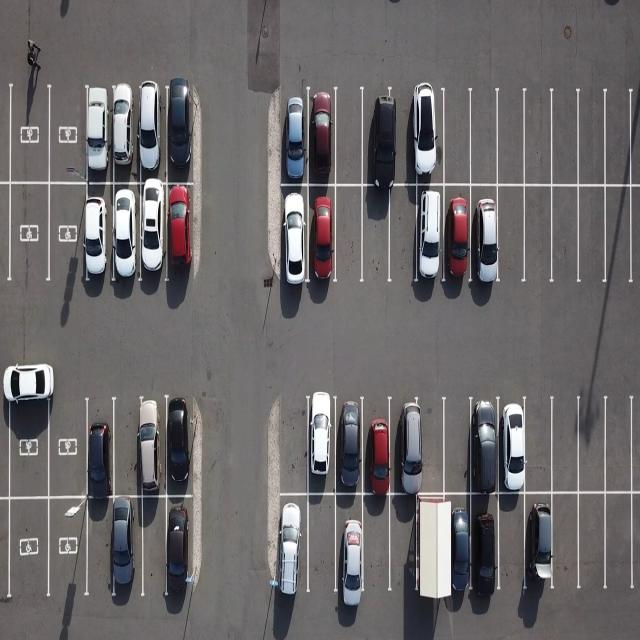space-empty: (3, 383, 48, 499), (47, 390, 91, 497), (47, 180, 88, 288), (6, 498, 48, 602), (8, 181, 49, 287), (9, 75, 47, 181), (491, 493, 529, 598), (49, 83, 88, 184), (546, 492, 584, 594), (602, 492, 640, 594), (411, 495, 447, 601), (306, 493, 341, 602), (571, 493, 608, 594), (113, 397, 150, 497), (603, 395, 638, 494), (275, 399, 311, 495), (548, 395, 583, 493), (494, 185, 528, 285), (574, 396, 608, 496), (359, 496, 392, 598), (82, 497, 115, 598), (574, 184, 607, 285), (438, 399, 473, 494), (524, 397, 558, 494), (334, 87, 368, 184), (388, 185, 422, 282), (606, 185, 638, 288), (524, 184, 556, 284), (549, 186, 581, 286), (140, 496, 170, 602), (334, 185, 366, 284), (438, 92, 471, 186), (359, 184, 391, 280), (604, 89, 636, 184), (387, 496, 418, 594), (469, 90, 501, 184), (575, 90, 607, 184), (415, 400, 447, 494), (549, 92, 581, 185), (525, 92, 556, 186), (494, 92, 525, 185), (391, 92, 418, 190)
space-occupied: (430, 496, 472, 606), (47, 494, 90, 598), (110, 497, 147, 599), (467, 492, 504, 594), (165, 182, 202, 282), (361, 87, 398, 185), (306, 185, 341, 288), (334, 493, 367, 602), (524, 489, 559, 591), (277, 495, 310, 603), (165, 496, 198, 604), (467, 398, 504, 494), (492, 398, 529, 493), (82, 398, 116, 501), (438, 183, 472, 286), (468, 183, 502, 286), (410, 92, 446, 188), (79, 180, 111, 288), (332, 397, 368, 492), (112, 181, 144, 286), (360, 398, 395, 494), (137, 181, 169, 285), (392, 399, 427, 494), (413, 184, 446, 284), (166, 397, 198, 496), (308, 396, 341, 490), (282, 183, 311, 289), (308, 90, 340, 186), (136, 398, 167, 497), (135, 84, 166, 182), (447, 498, 477, 598), (167, 86, 197, 183), (83, 86, 111, 183), (282, 90, 310, 186), (113, 83, 140, 179)
